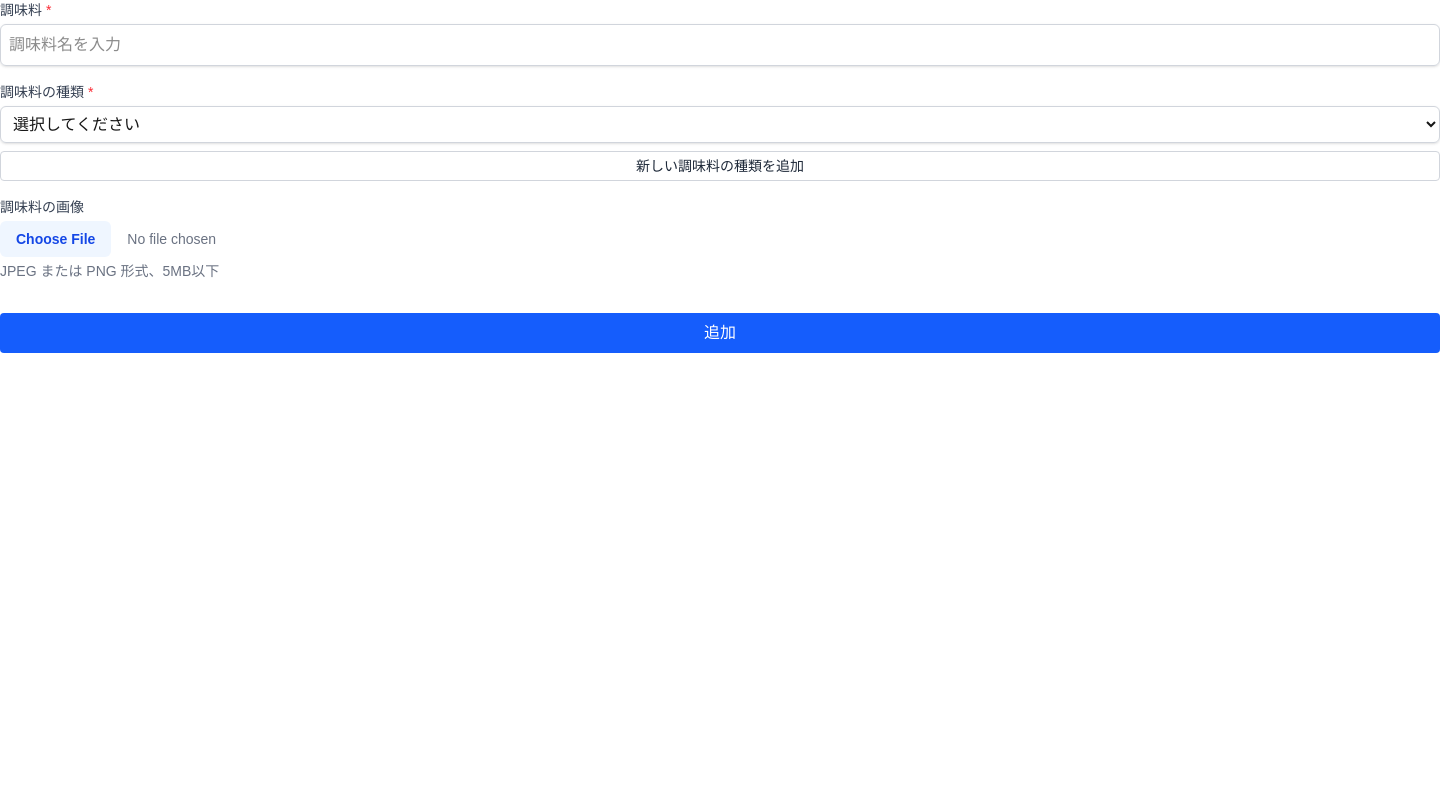
Test case: モーダルで名前を空のまま保存するとバリデーションエラーを表示する
Click the button "新しい調味料の種類を追加" at (720, 166), box [0,151,1439,181]
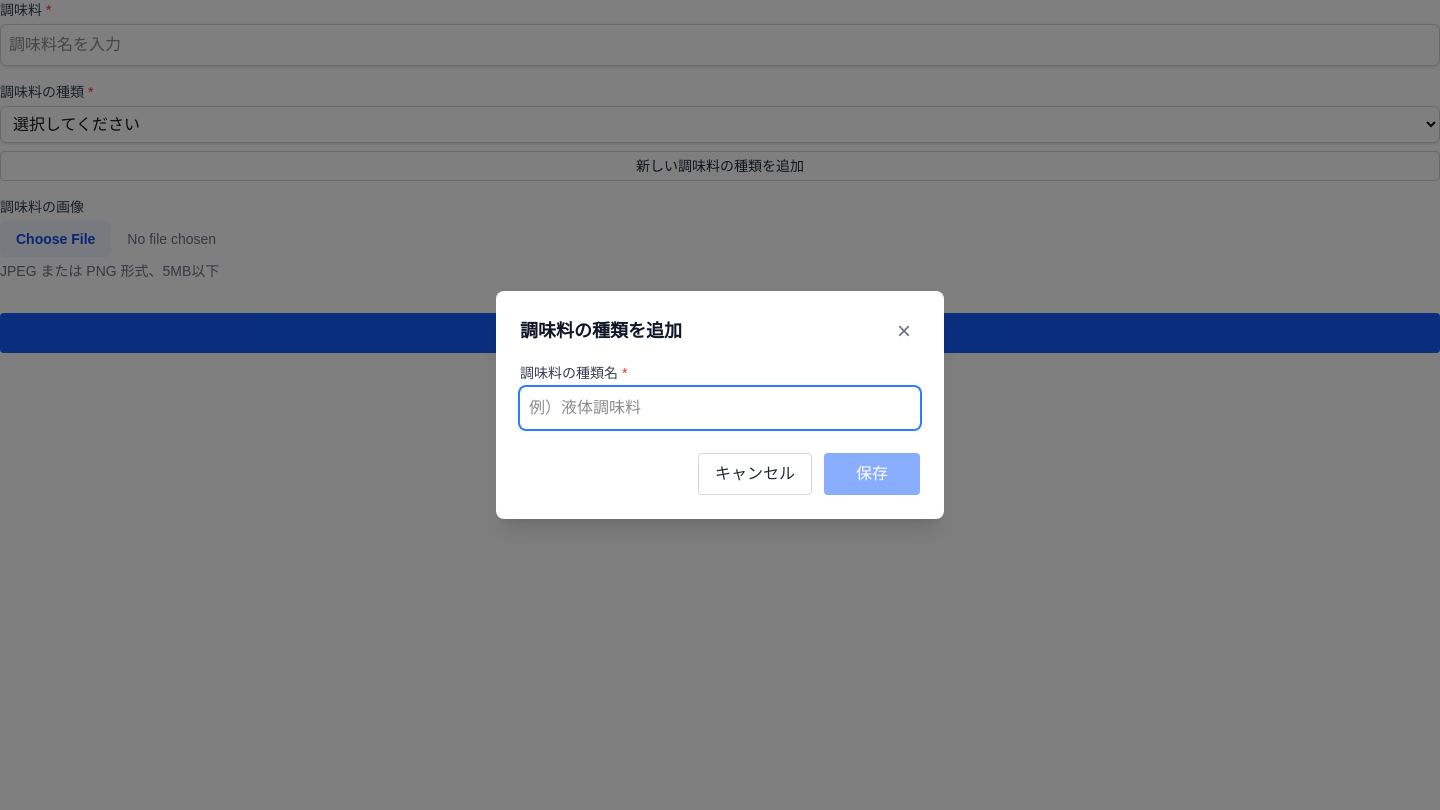
Click the button "保存" at (872, 474), box [824,453,920,495]
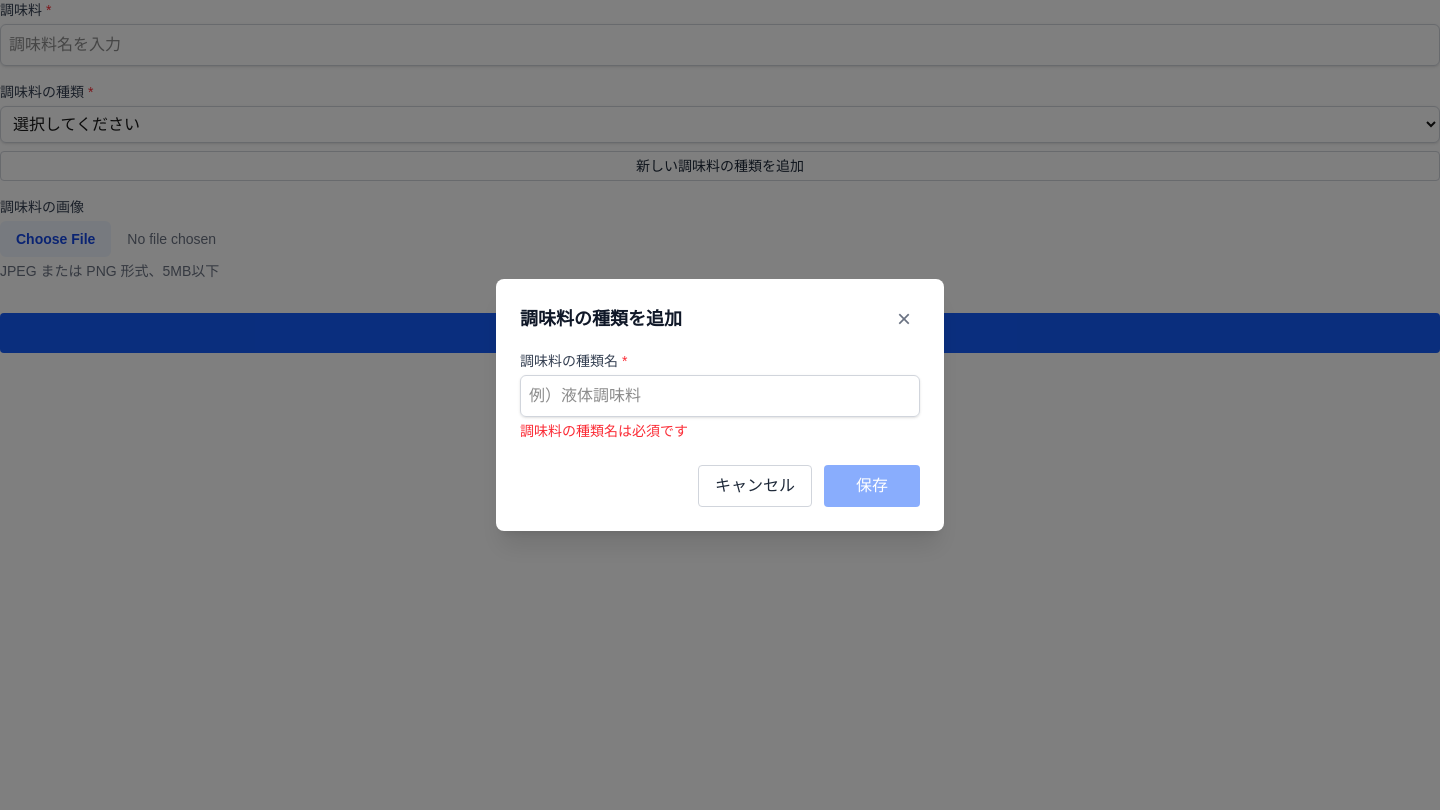
Result: the text "調味料の種類名は必須です" is shown at [520,423,688,439]
